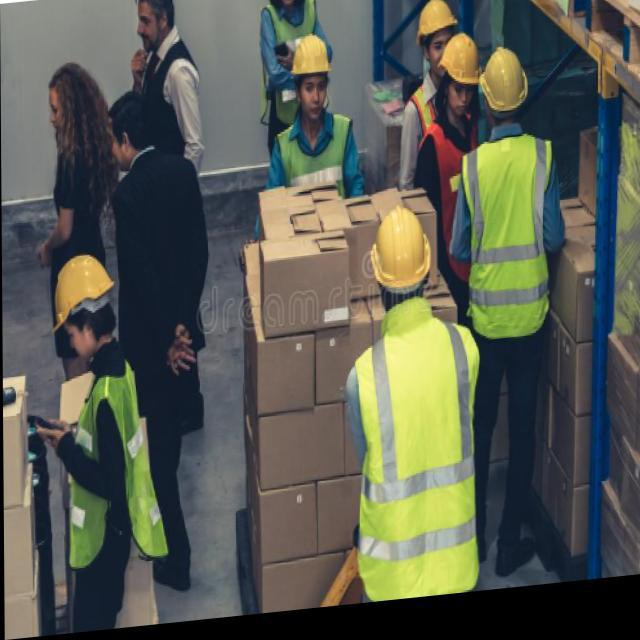helmet: (360, 196, 437, 313), (46, 247, 119, 368), (474, 38, 534, 131), (283, 31, 334, 128), (437, 24, 480, 123), (418, 0, 461, 76)
vest: (349, 292, 485, 604), (65, 355, 173, 574), (460, 132, 554, 346), (425, 111, 496, 280), (276, 110, 355, 240), (415, 73, 470, 206), (263, 0, 318, 115)
